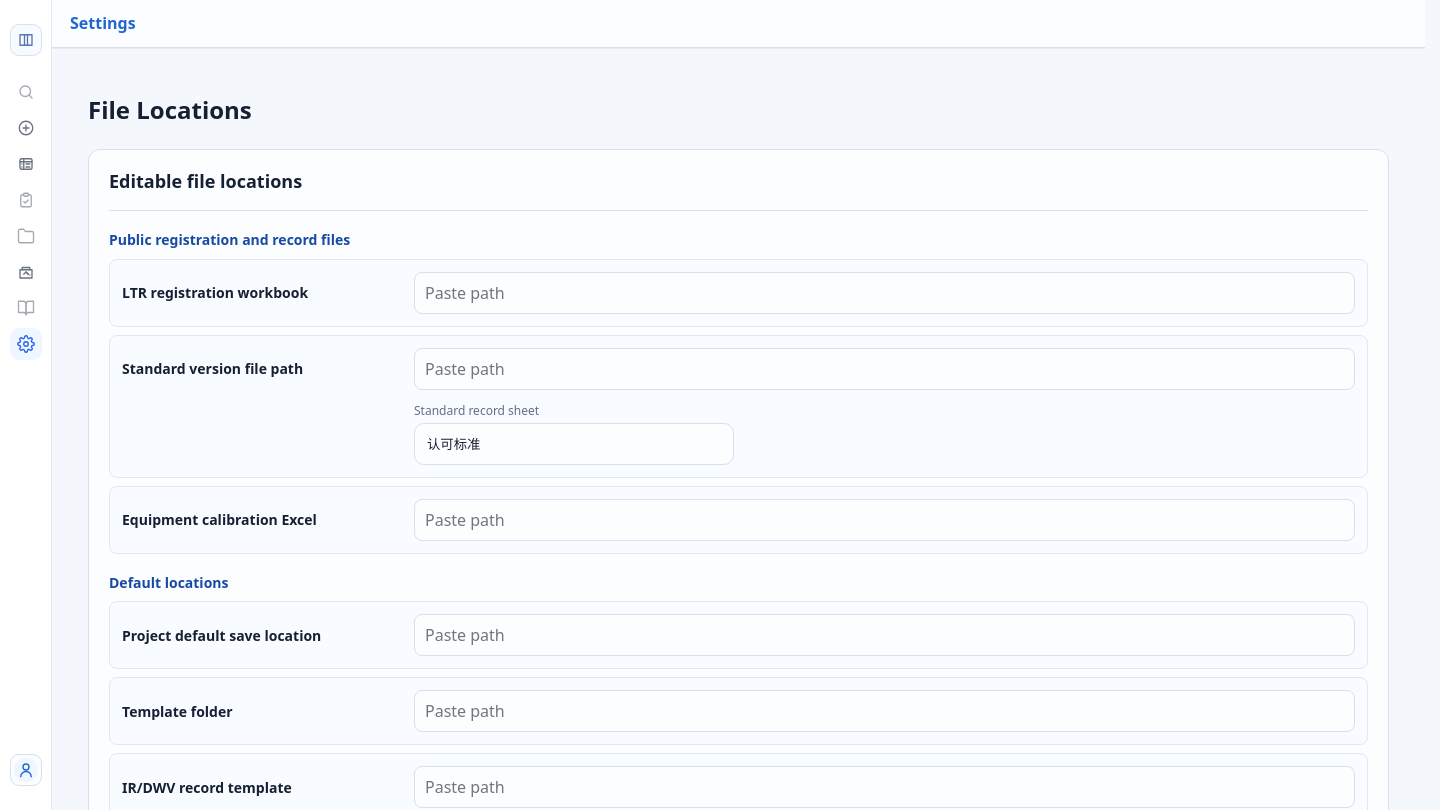
Tools sidebar resumes the temperature workspace › keeps the tool directory when there is no recent workspace
Click the button named "Tools".
click(26, 272)  # box [10,256,42,288]
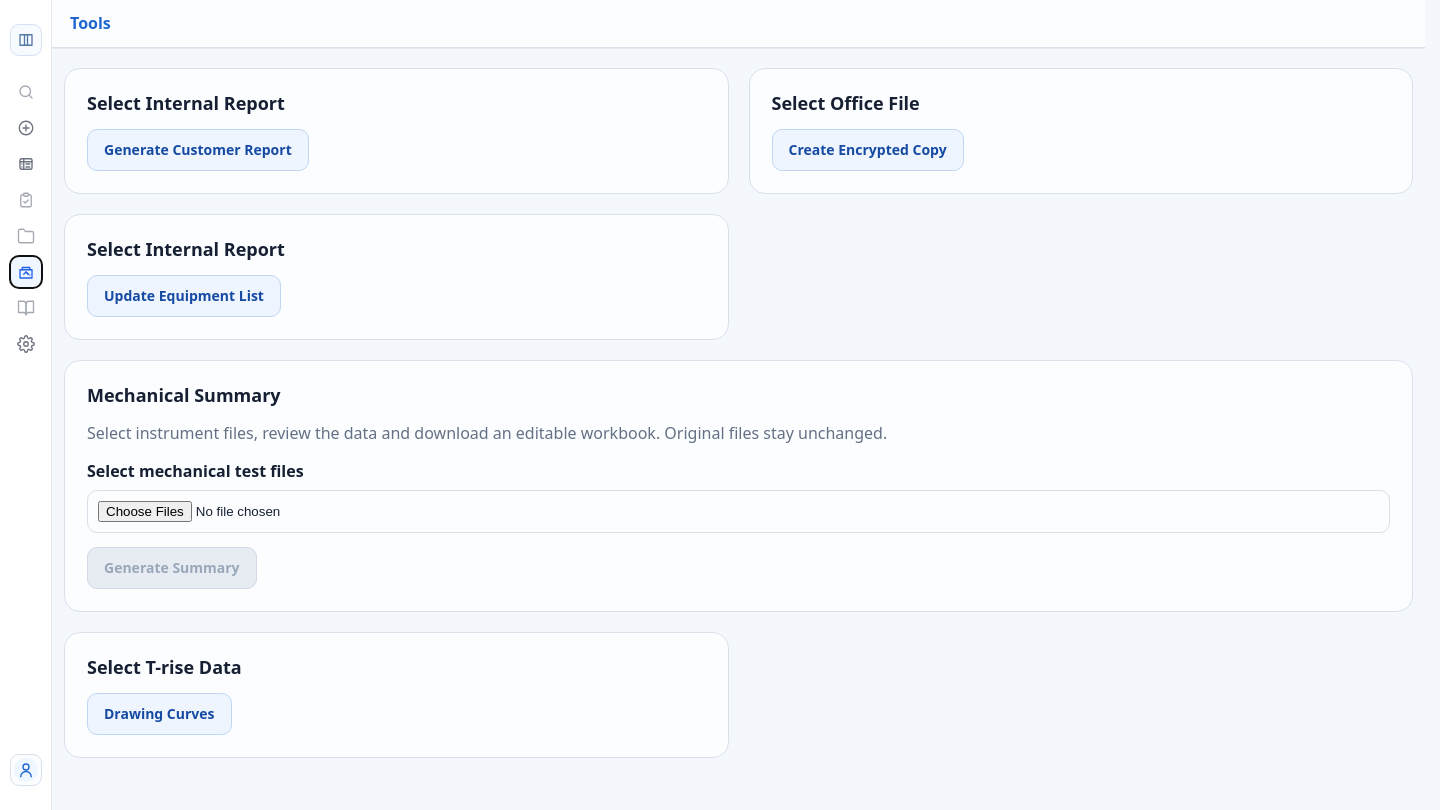
Check: the button "Drawing Curves" is shown, box [87,693,232,735]
